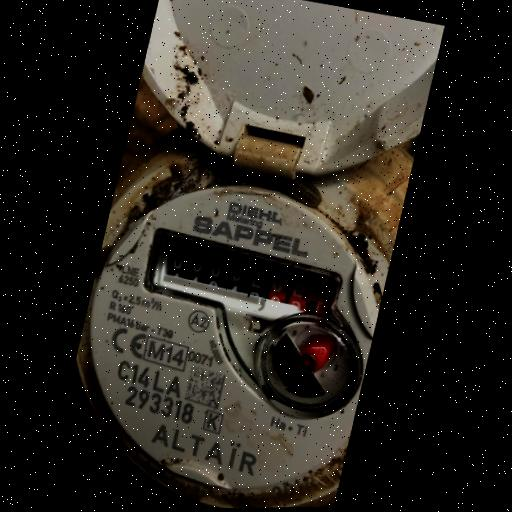0: (164, 237, 195, 278), (183, 242, 213, 284), (222, 251, 252, 293)
2: (284, 265, 316, 312), (241, 254, 275, 298)
4: (303, 271, 337, 317)
8: (203, 246, 233, 287), (267, 261, 296, 303)
border_water_meter_number: (135, 224, 351, 334)
